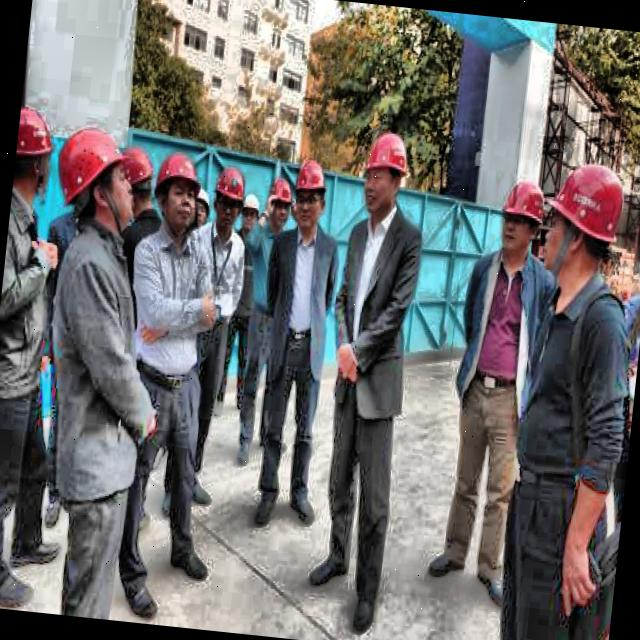helmet: (540, 156, 626, 292), (54, 120, 140, 232), (494, 172, 548, 265), (358, 125, 413, 216), (12, 100, 58, 206), (150, 146, 204, 234), (102, 138, 154, 224), (290, 152, 332, 232), (210, 162, 249, 230), (262, 175, 292, 232), (235, 185, 263, 242)
